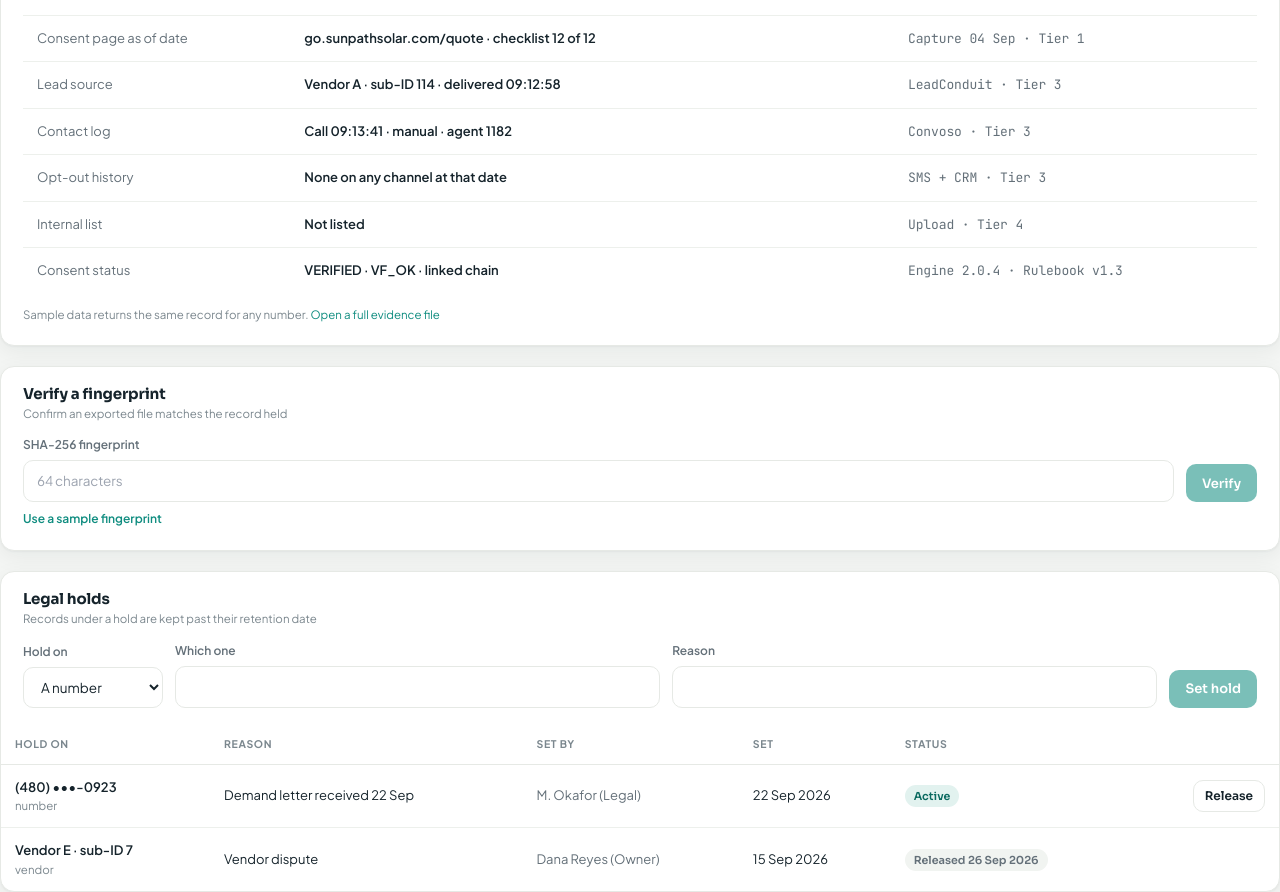
Test: interactions › verifies a fingerprint in the vault
The width and height of the screenshot is (1280, 892).
(page scrolled)
Click the button "Use a sample fingerprint" at point(92, 519), box [23,510,162,528]
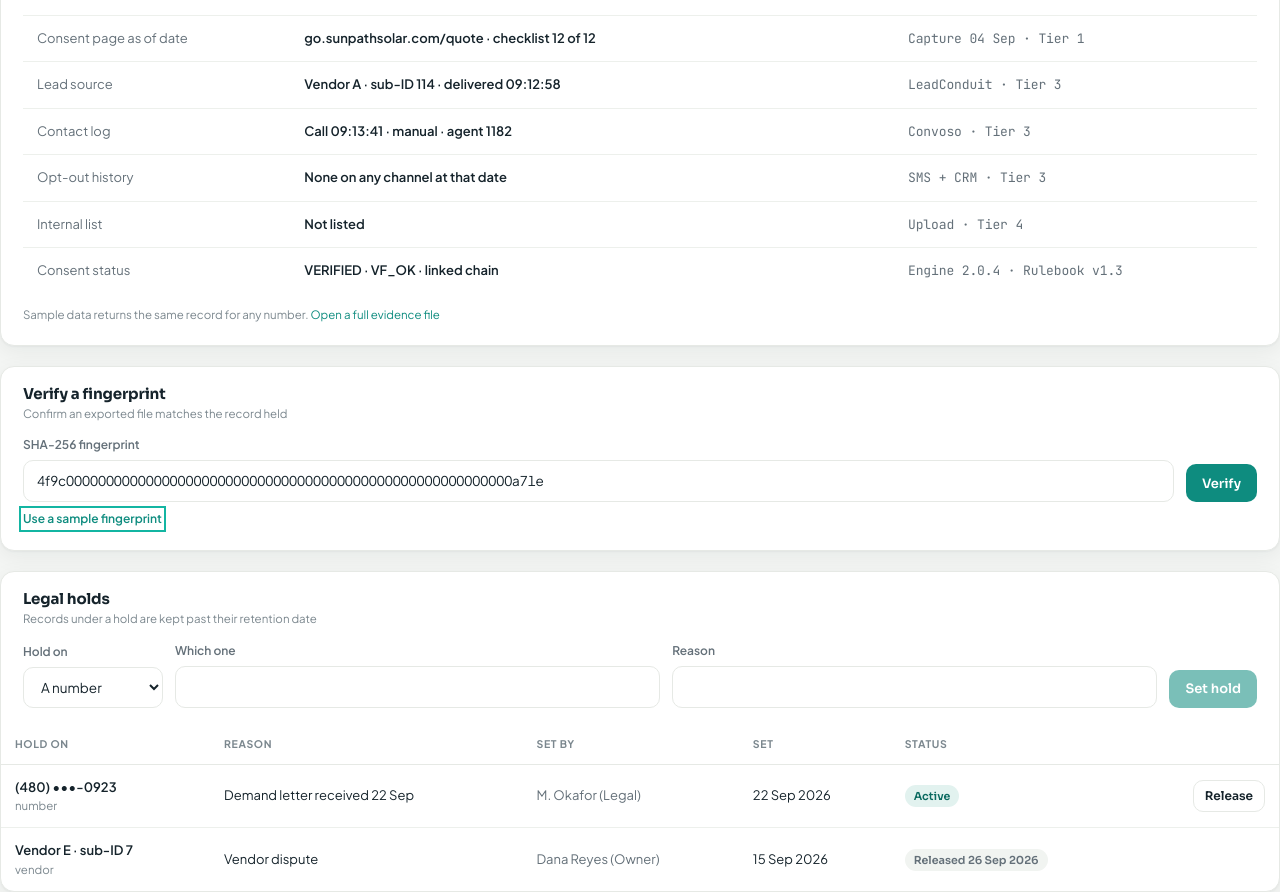
Click the button "Verify" at point(1221, 483), box [1186,464,1257,502]
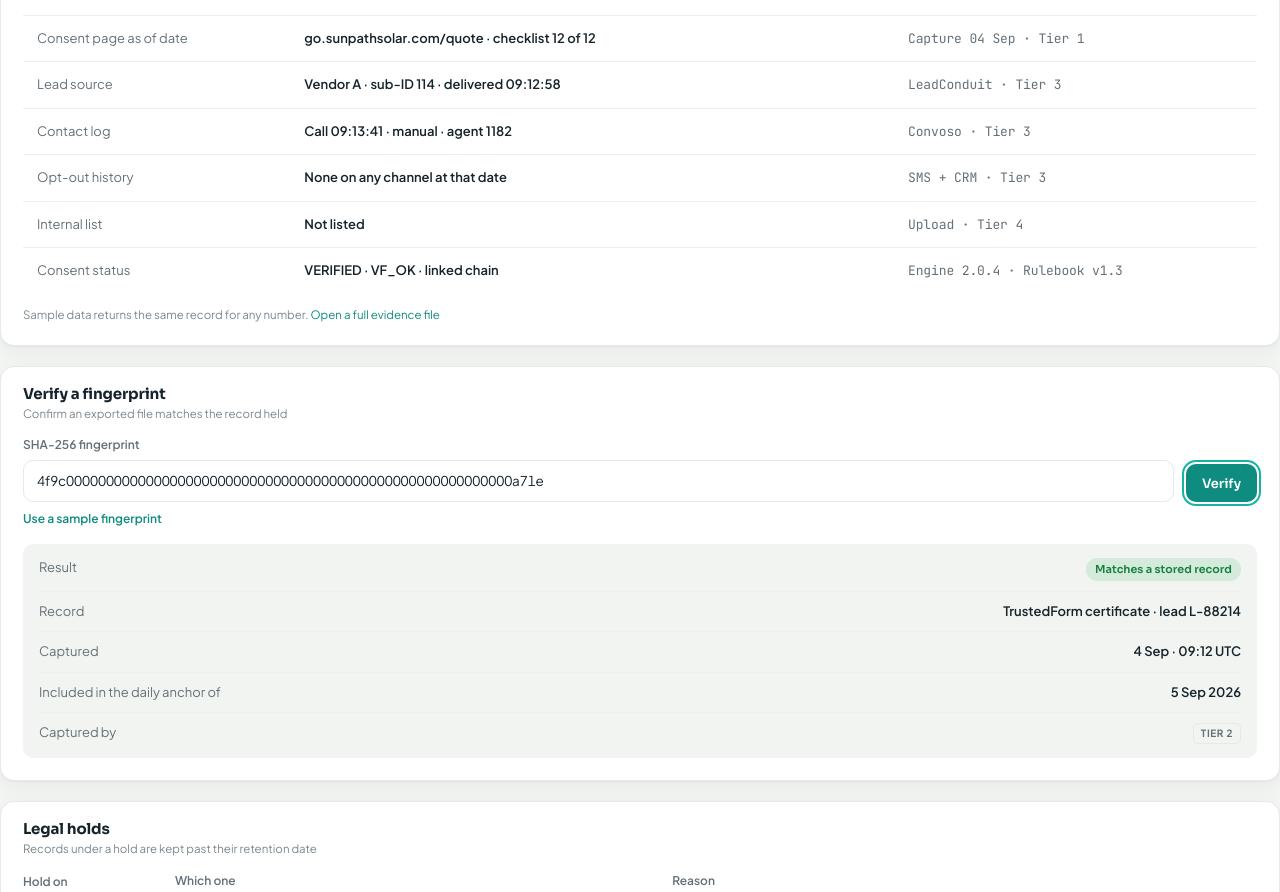
Expected: the text "Matches a stored record" is shown, [1086,558,1241,581]
